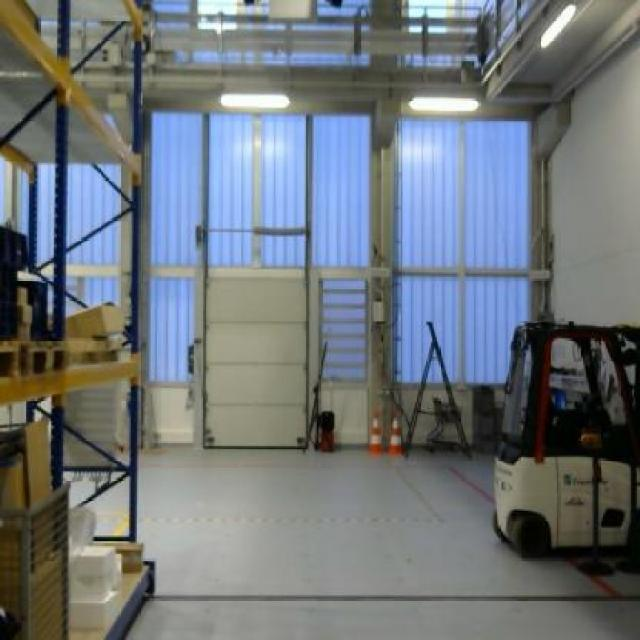box: (66, 298, 122, 337)
